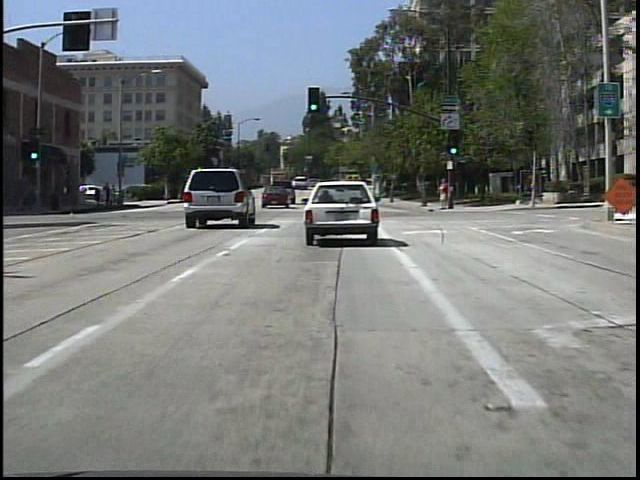person: (434, 173, 452, 212), (104, 180, 116, 210), (116, 182, 117, 209)
